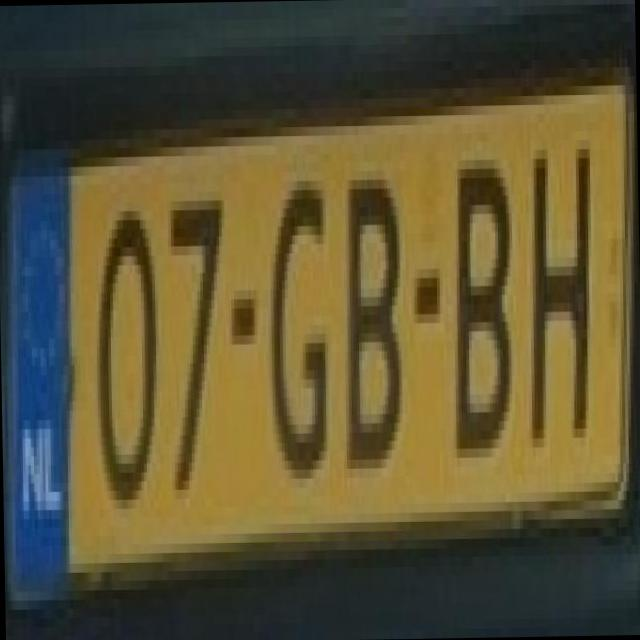0: (82, 183, 161, 500)
7: (152, 172, 237, 490)
B: (436, 132, 522, 448), (338, 152, 406, 459)
G: (256, 153, 338, 479)
H: (515, 122, 600, 438)
